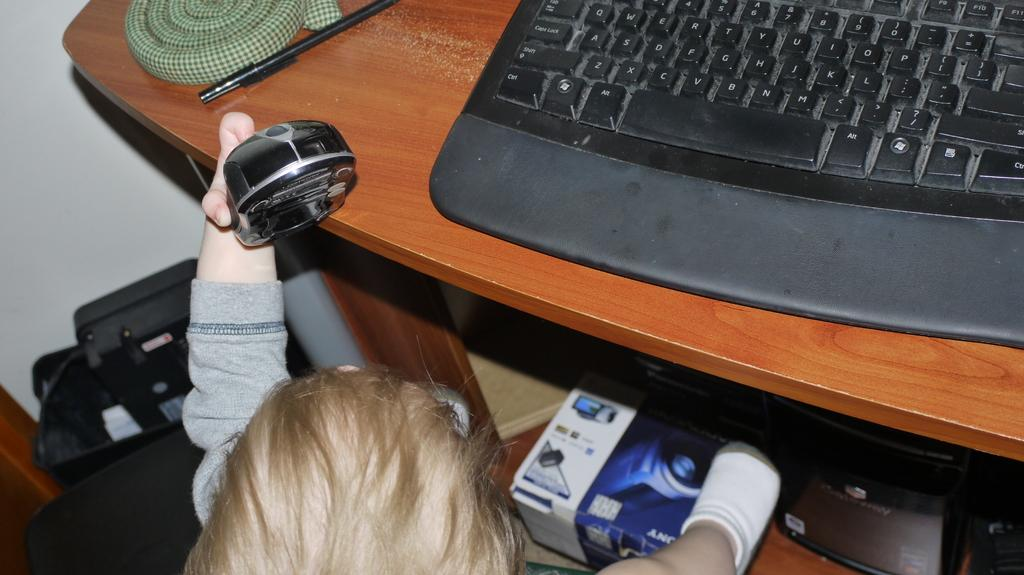Computer-keyboard: (428, 0, 1023, 350)
